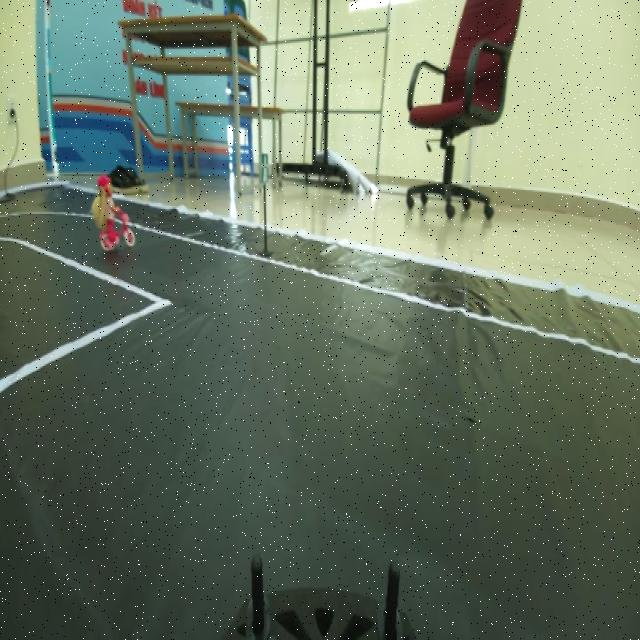pedestrian: (85, 178, 147, 258)
